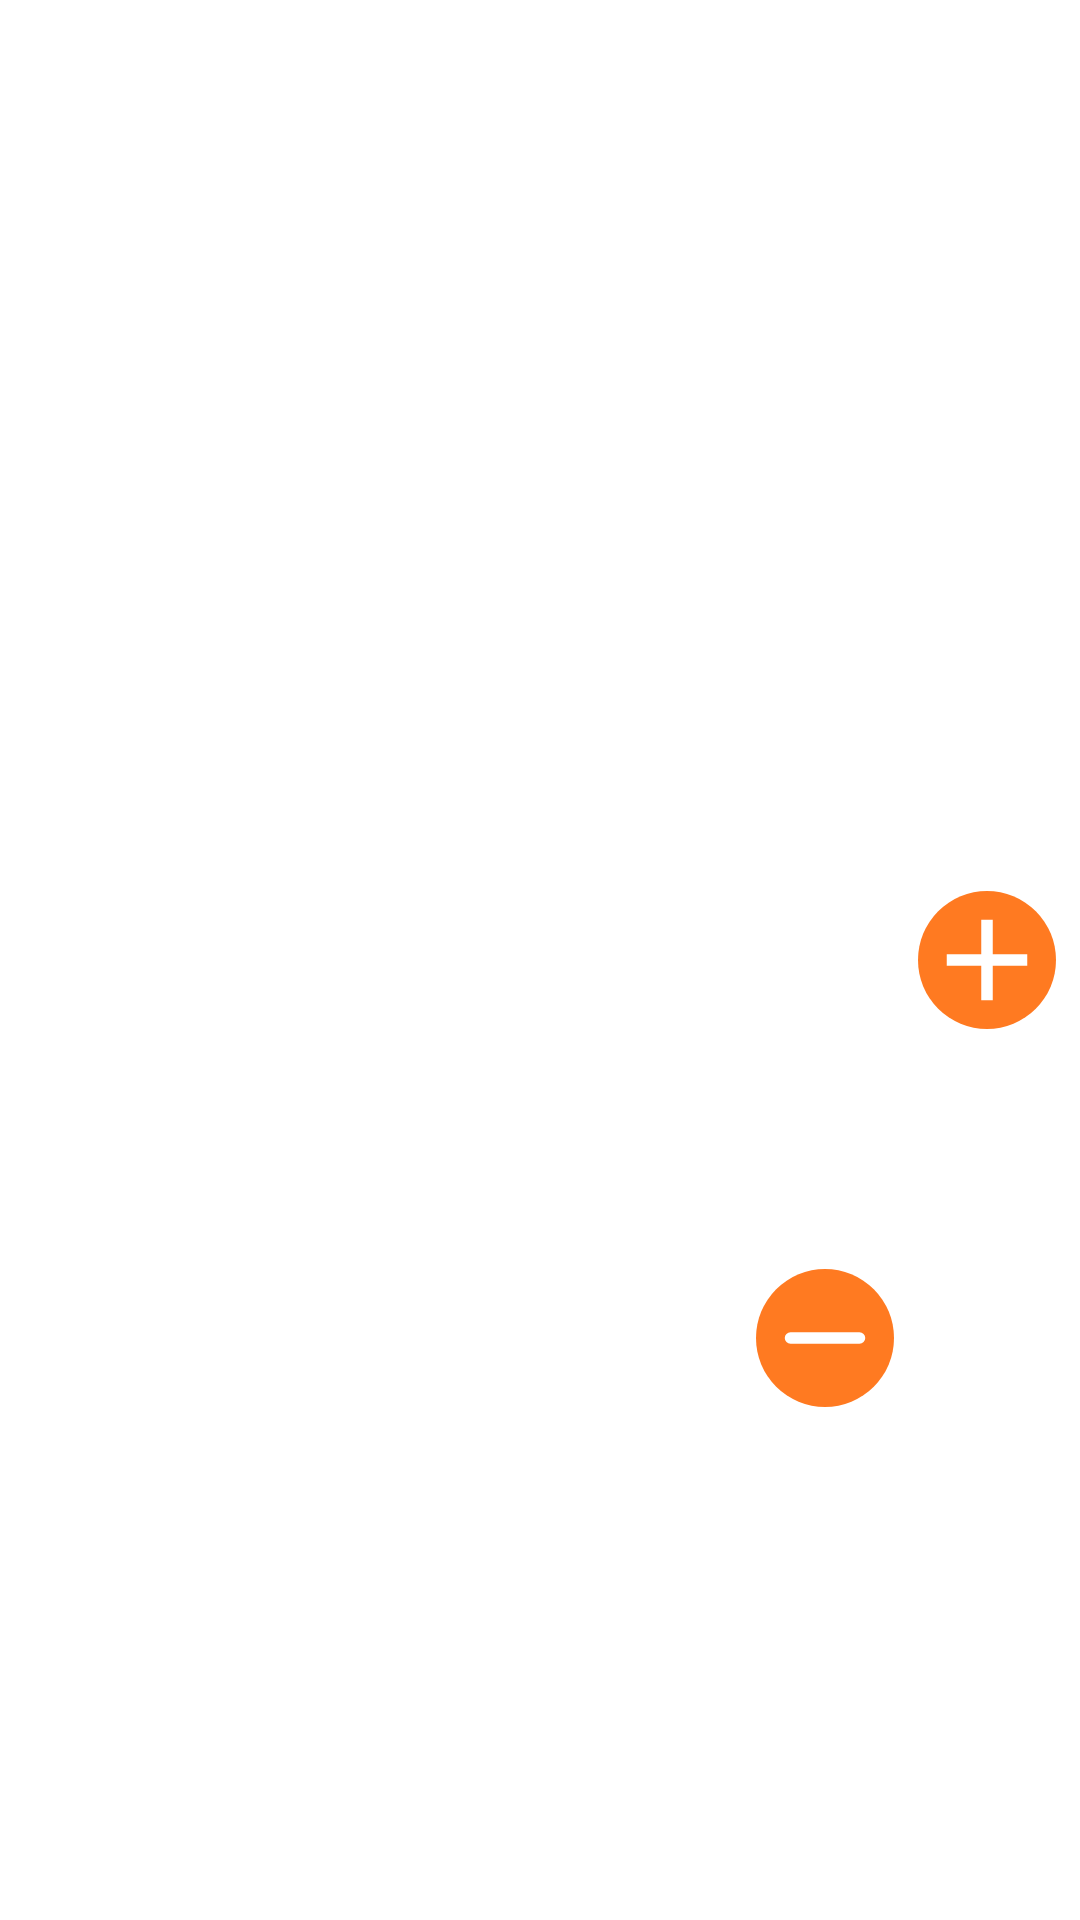

Screen size 1080w x 1920h. Icon name, then its box in pixels as (x1=x1, y1=y1, x2=x2, y2=y2):
minus: (x1=756, y1=1269, x2=894, y2=1407)
plus: (x1=918, y1=891, x2=1056, y2=1029)
